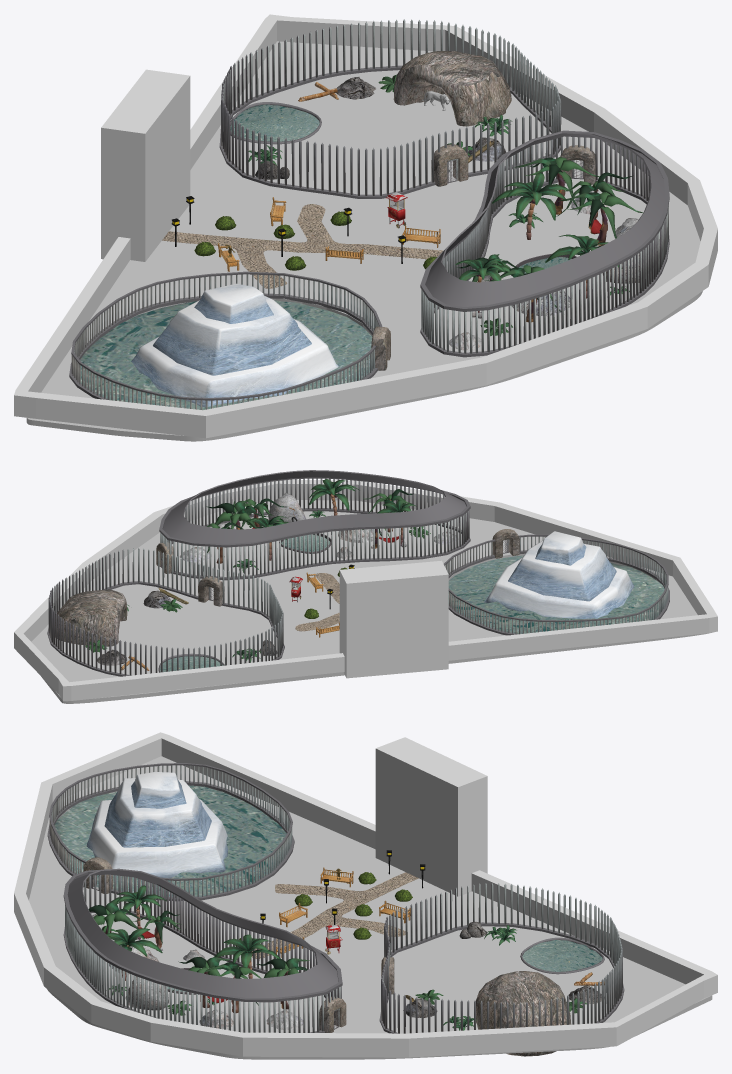
Rendered from zoo pod export.fbx.
3 views of the same model, one above another, from view 1: azimuth 30°, elevation 25°; view 2: azimuth 150°, elevation 25°; view 3: azimuth 270°, elevation 25° (orthographic). The views are drawn at different scales.
Parts seen in each view (by area): view 1: Plane, Cube.022, Cube.021, Cube, Cube.001, Plane.011, Circle.004, Cube.013, Cube.012, Cube.015, Cylinder.008, Plane.014 (+14 smaller); view 2: Plane, Cube.022, Cube, Cube.001, Cube.021, Circle.004, Plane.011, Cube.013, Cube.012, Cube.015, Cylinder.008, Circle.003 (+13 smaller); view 3: Plane, Cube.022, Cube, Cube.001, Cube.021, Circle.004, Plane.011, Cube.012, Cube.013, Cylinder.008, Cube.015, Plane.014 (+14 smaller).
Part boxes in pixels (x1,y1,x2,y2): Plane: (26,41,702,441); Cube.022: (14,14,717,438); Cube.021: (221,19,561,195); Cube: (101,69,190,261); Cube.001: (421,136,668,353); Plane.011: (80,300,372,410); Circle.004: (425,131,665,306); Cube.013: (153,295,311,375); Cube.012: (131,318,338,406); Cube.015: (393,51,511,126); Cylinder.008: (71,274,378,409); Plane.014: (162,204,443,288); Plane: (31,500,711,703); Cube.022: (14,479,717,701); Cube: (339,560,448,678); Cube.001: (160,478,469,577); Cube.021: (48,548,283,675); Circle.004: (163,470,466,543); Plane.011: (448,555,664,633); Cube.013: (508,541,616,601); Cube.012: (484,557,633,618); Cube.015: (55,589,127,646); Cylinder.008: (444,536,668,634); Circle.003: (159,477,470,547); Plane: (29,756,712,1059); Cube.022: (14,732,717,1057); Cube: (375,737,487,896); Cube.001: (65,874,341,1032); Cube.021: (381,883,622,1033); Circle.004: (68,868,338,997); Plane.011: (54,785,286,897); Cube.012: (86,799,227,878); Cube.013: (104,778,211,847); Cylinder.008: (49,765,292,898); Cube.015: (475,971,571,1056); Plane.014: (251,872,418,958).
Size of the model in its own units: 73.81 by 71.56 by 14.18.
